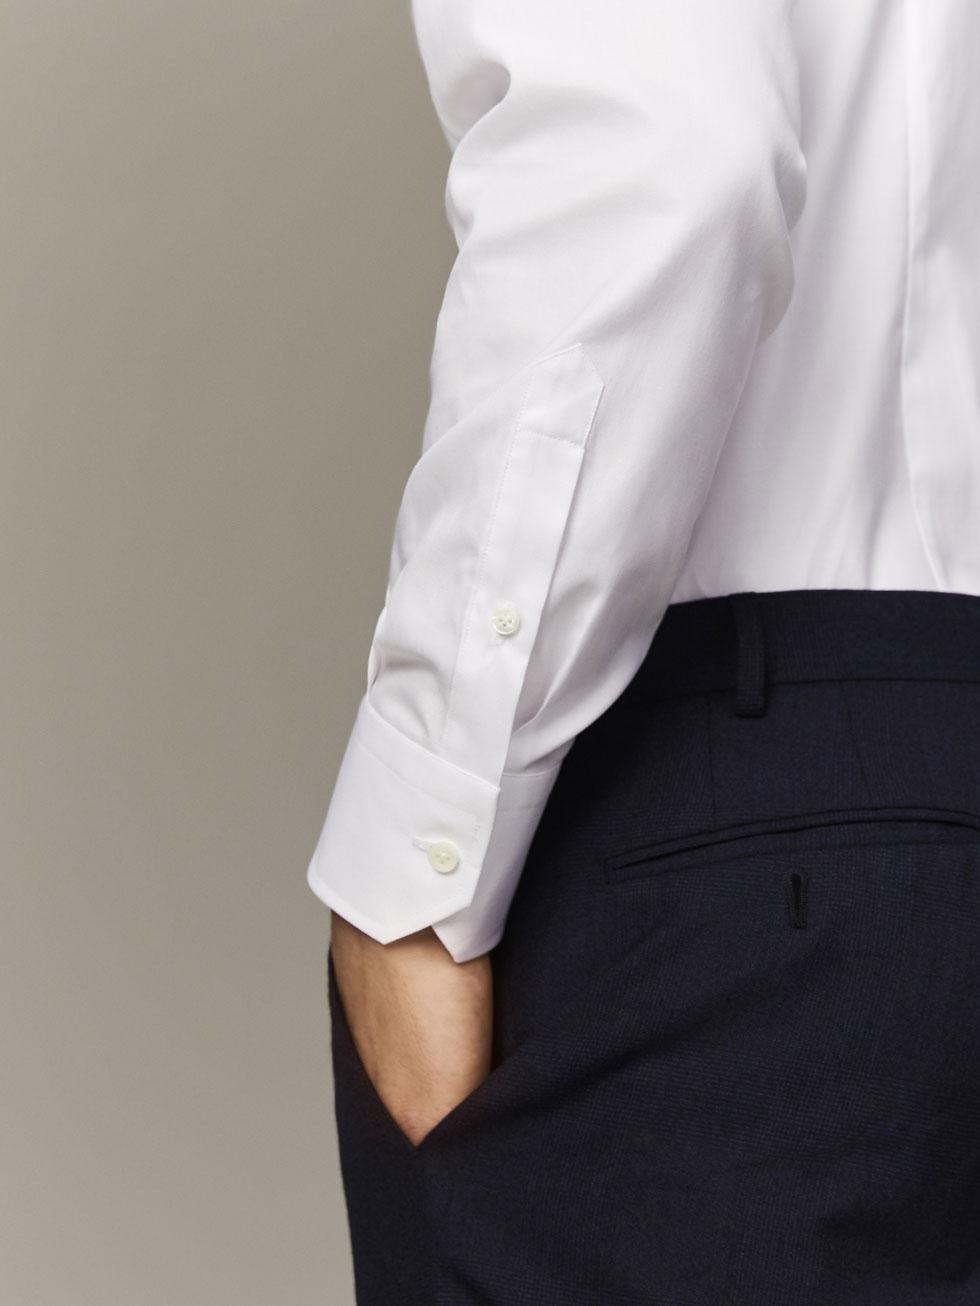teeshirt: (262, 1, 975, 989)
